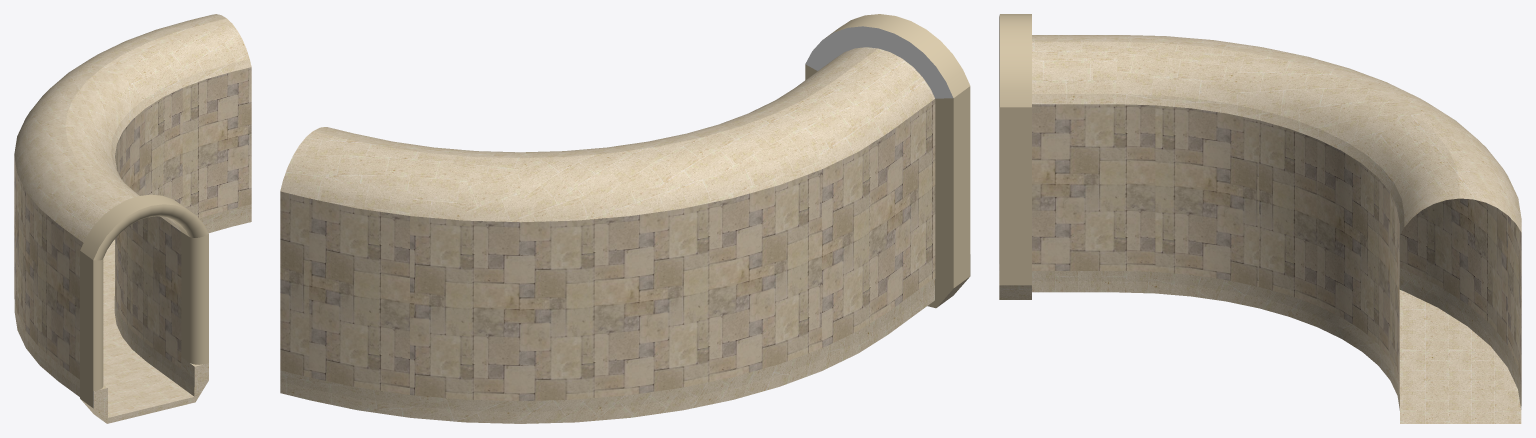
The model's file is curva.fbx.
The picture shows the model from 3 angles, left to right: view 1: azimuth 30°, elevation 25°; view 2: azimuth 150°, elevation 25°; view 3: azimuth 270°, elevation 25°; orthographic projection. The views are drawn at different scales.
Visible parts, largest first — view 1: Model; view 2: Model; view 3: Model.
Part boxes in pixels (x1,y1,x2,y2): Model: (14, 14, 251, 423); Model: (280, 14, 970, 423); Model: (999, 14, 1521, 423).
Size of the model in its own units: 4.81 by 2.95 by 5.54.
